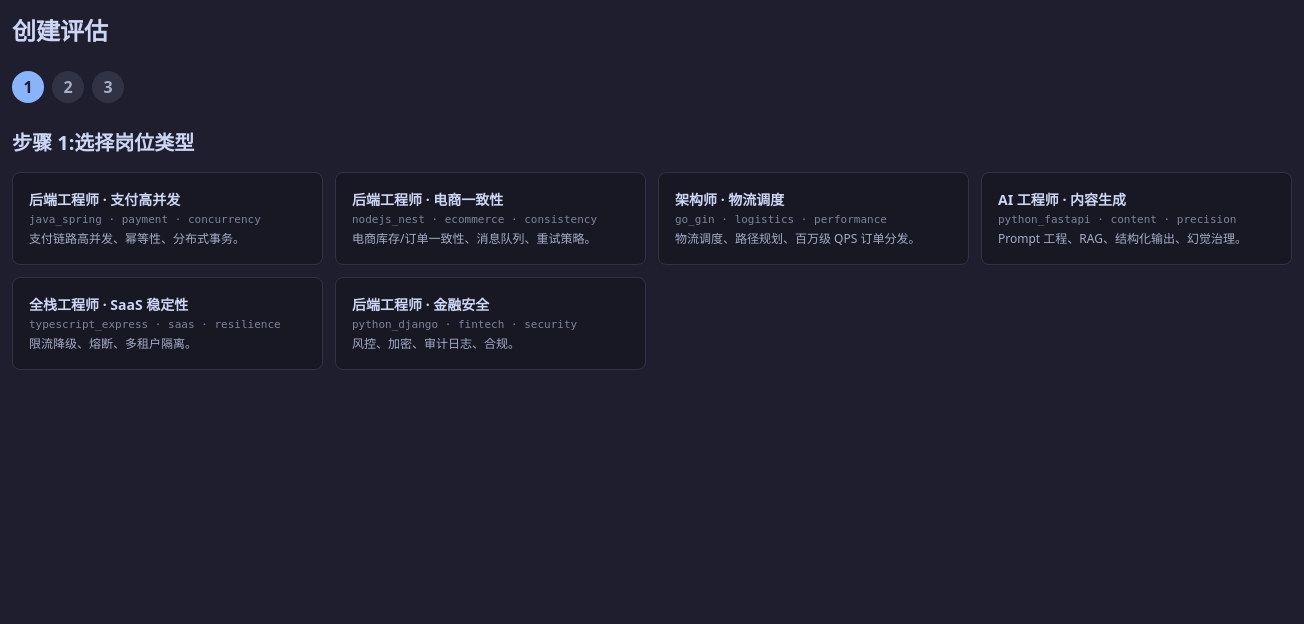
Test: <AdminCreateSessionPage /> › picks junior level → recommends quick_screen on step 3
Step 1. Click the button with test id "admin-create-step1-position-0" → coordinates (168, 218), box [12, 172, 323, 265]
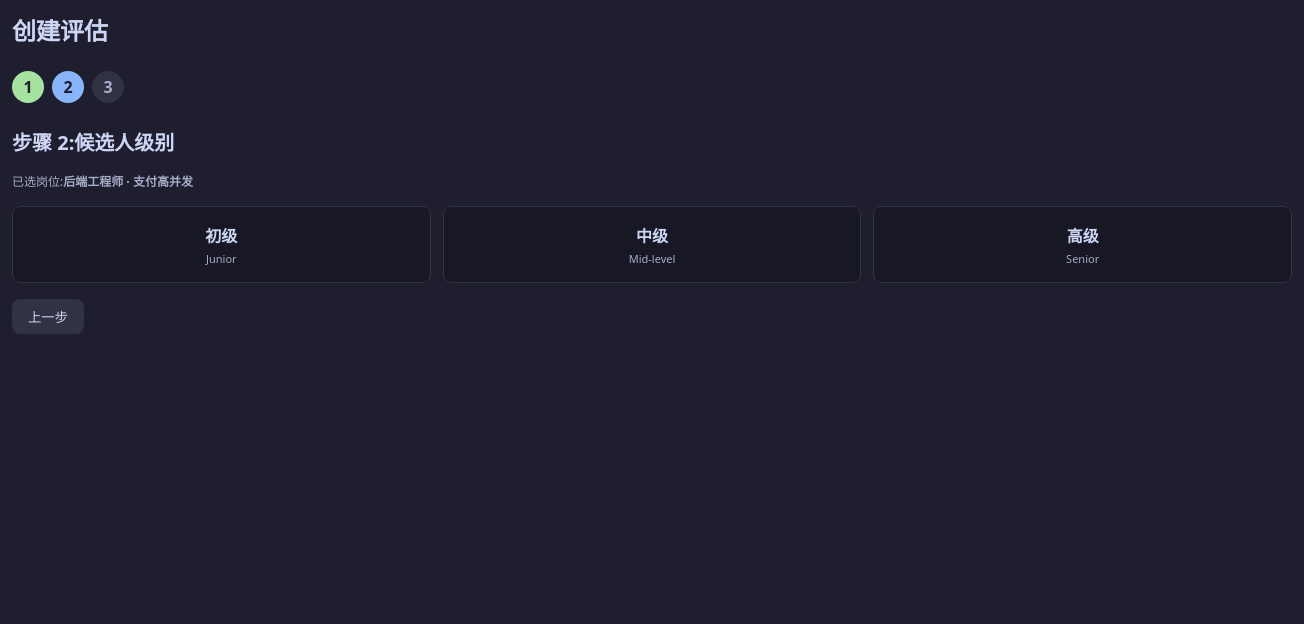
Step 2. Click the button with test id "admin-create-step2-level-junior" → coordinates (221, 244), box [12, 206, 431, 283]
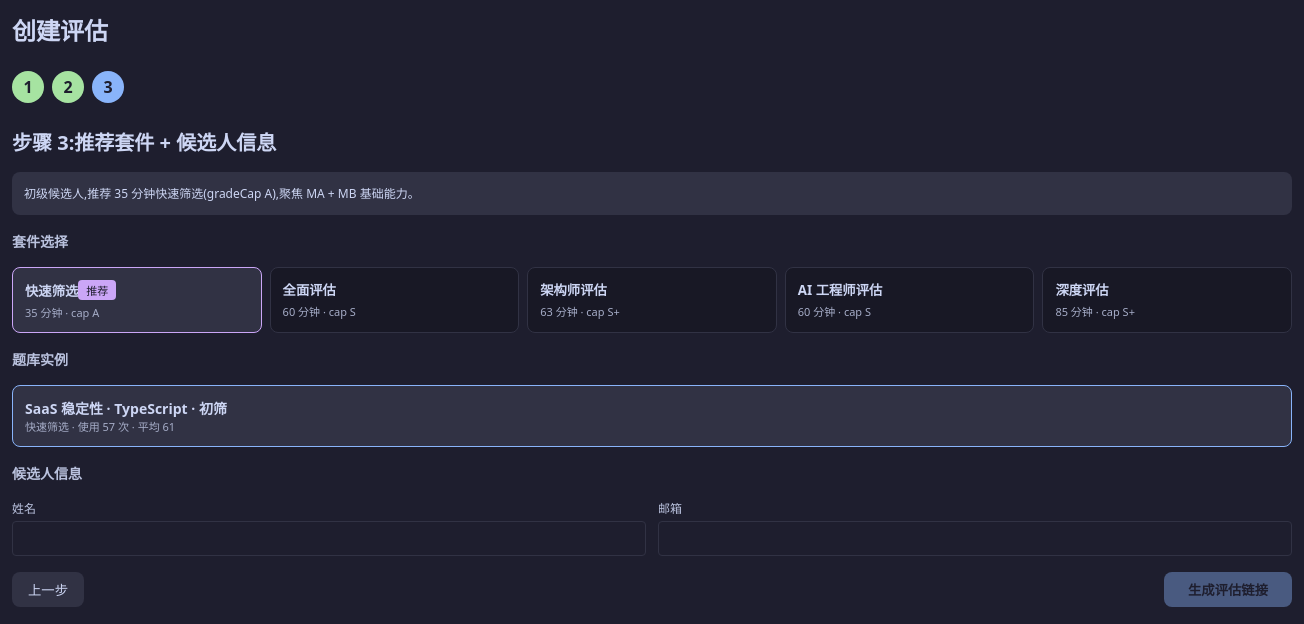
Now the element with test id "admin-create-step-3" is shown
Now the text with test id "admin-create-step3-reasoning" reads "初级候选人,推荐 35 分钟快速筛选(gradeCap A),聚焦 MA + MB 基础能力。", box [24, 185, 420, 202]
Now the button with test id "admin-create-step3-suite-quick_screen" is shown, box [12, 267, 262, 333]
